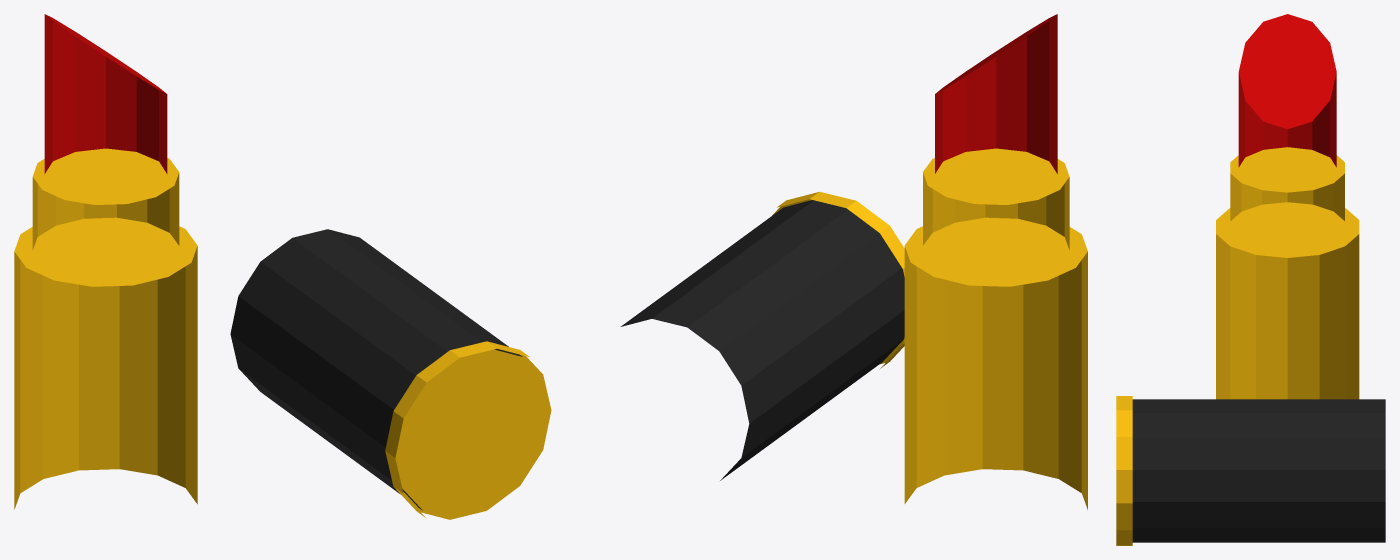
The model's file is lappstift.glb.
3 views of the same model, side by side, from view 1: azimuth 30°, elevation 25°; view 2: azimuth 150°, elevation 25°; view 3: azimuth 270°, elevation 25° (orthographic). The views are drawn at different scales.
Visible parts, largest first — view 1: lappstift; view 2: lappstift; view 3: lappstift.
Part boxes in pixels (left/top/right/bottom): lappstift: left=14, top=14, right=551, bottom=519; lappstift: left=620, top=14, right=1087, bottom=509; lappstift: left=1116, top=14, right=1385, bottom=545.
Size of the model in its own units: 0.242 by 0.2708 by 0.165.
